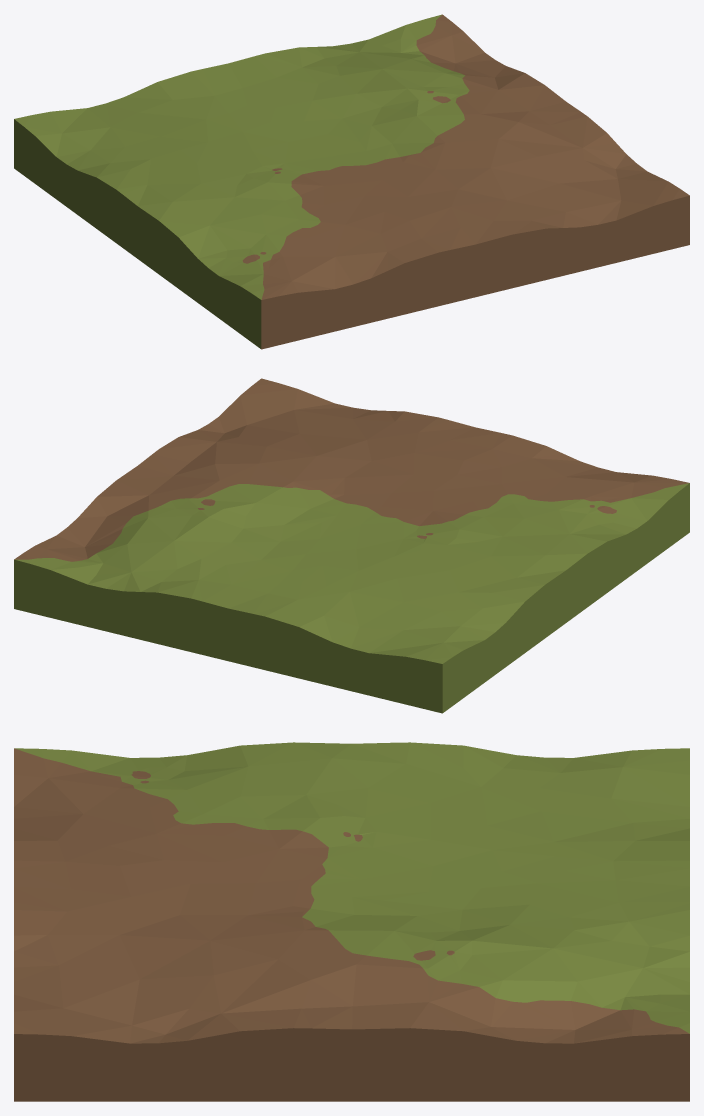
File: Terrian_DirtGrass_Flat-04.fbx
3 views of the same model, one above another, from view 1: azimuth 30°, elevation 25°; view 2: azimuth 150°, elevation 25°; view 3: azimuth 270°, elevation 25° (orthographic). The views are drawn at different scales.
Visible parts, largest first — view 1: Terrian_DirtGrass_Flat-04; view 2: Terrian_DirtGrass_Flat-04; view 3: Terrian_DirtGrass_Flat-04.
Boxes of the visible parts, left/top/right/bottom form: Terrian_DirtGrass_Flat-04: left=14, top=14, right=689, bottom=349; Terrian_DirtGrass_Flat-04: left=14, top=378, right=689, bottom=713; Terrian_DirtGrass_Flat-04: left=14, top=742, right=689, bottom=1101.
Bounding box in the file's own units: 3600 × 495 × 3600.
Materials: 1 (1 with a texture image).
